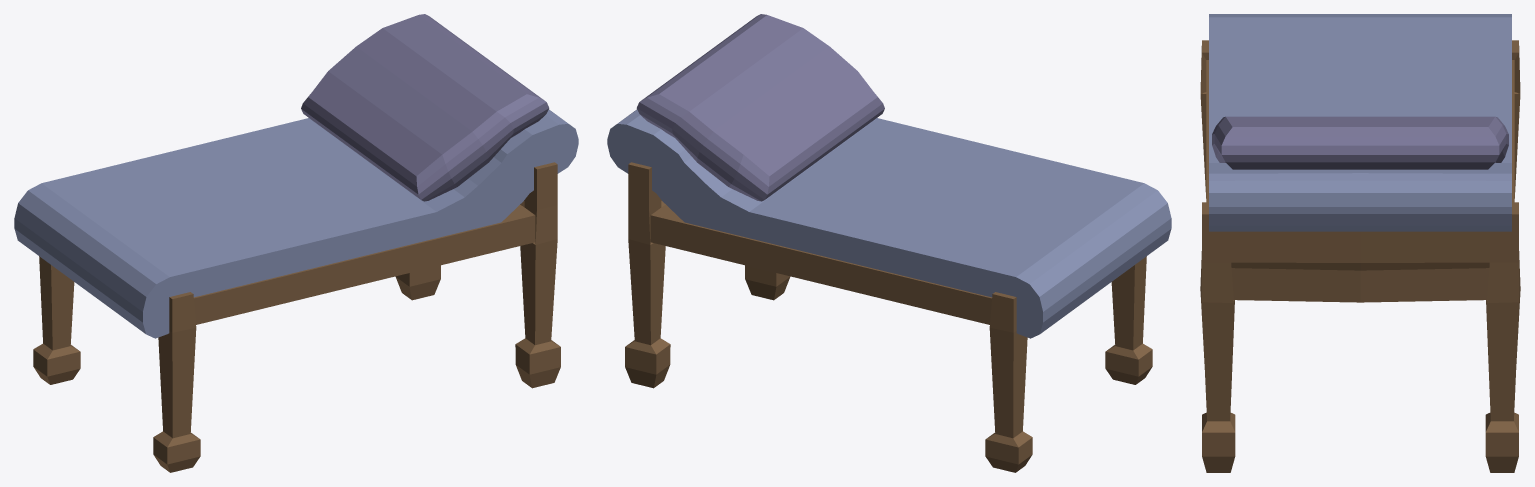
File: Sofa.fbx
3 renders of one model, left to right at view 1: azimuth 30°, elevation 25°; view 2: azimuth 150°, elevation 25°; view 3: azimuth 270°, elevation 25°, orthographic. The views are drawn at different scales.
Visible parts, largest first — view 1: Sofa; view 2: Sofa; view 3: Sofa.
Part boxes in pixels (x1,y1,x2,y2): Sofa: (14,14,578,472); Sofa: (607,14,1171,472); Sofa: (1200,14,1520,472).
Size of the model in its own units: 437 by 273 by 235.
